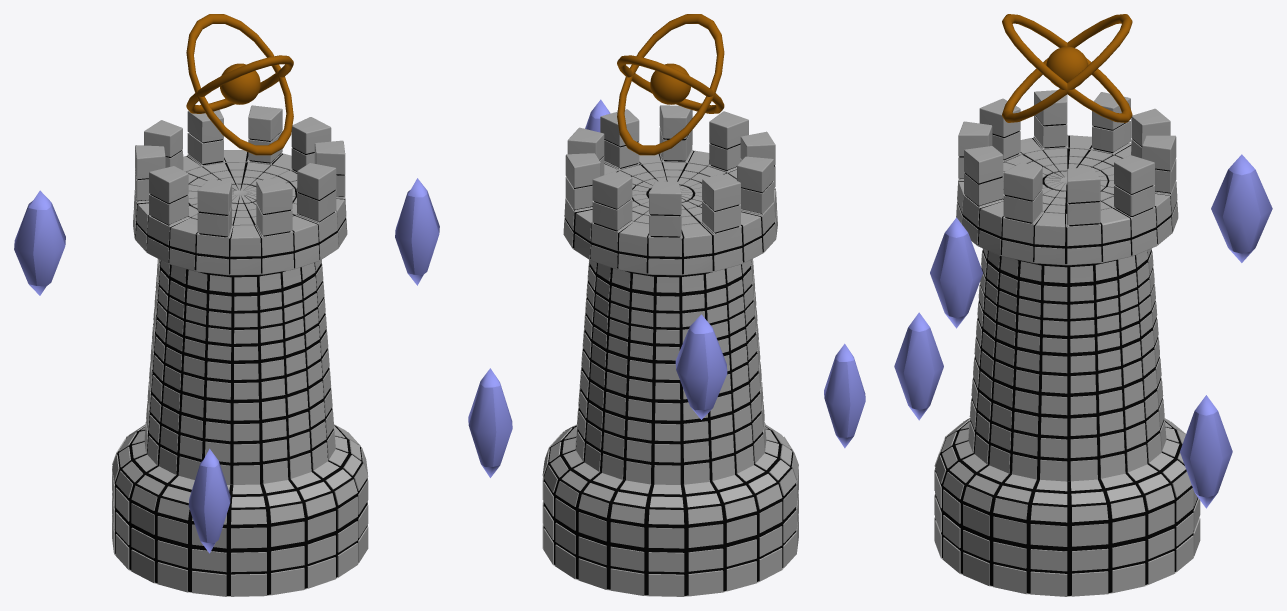
The picture shows the model from 3 angles, left to right: view 1: azimuth 30°, elevation 25°; view 2: azimuth 150°, elevation 25°; view 3: azimuth 270°, elevation 25°; orthographic projection. The views are drawn at different scales.
Parts seen in each view (by area): view 1: pTorus1, pCube5; view 2: pTorus1, pCube5; view 3: pTorus1, pCube5.
Part boxes in pixels (bbox=[...]): pTorus1: bbox=[112, 14, 368, 596]; pCube5: bbox=[14, 178, 439, 553]; pTorus1: bbox=[542, 14, 798, 596]; pCube5: bbox=[468, 99, 865, 477]; pTorus1: bbox=[934, 14, 1200, 596]; pCube5: bbox=[894, 154, 1272, 508].
Bounding box in the file's own units: 3.43 × 5.78 × 3.8.
